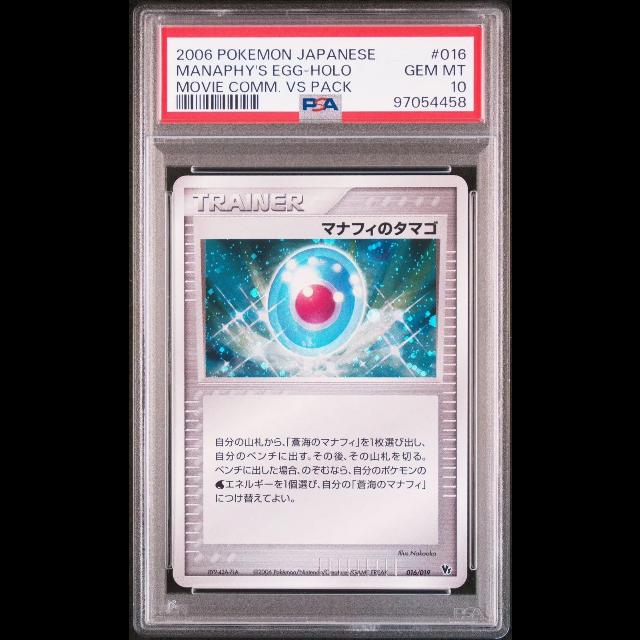card: (169, 173, 469, 590)
psa_label: (158, 24, 482, 124)
psa_slab: (131, 0, 510, 639)
